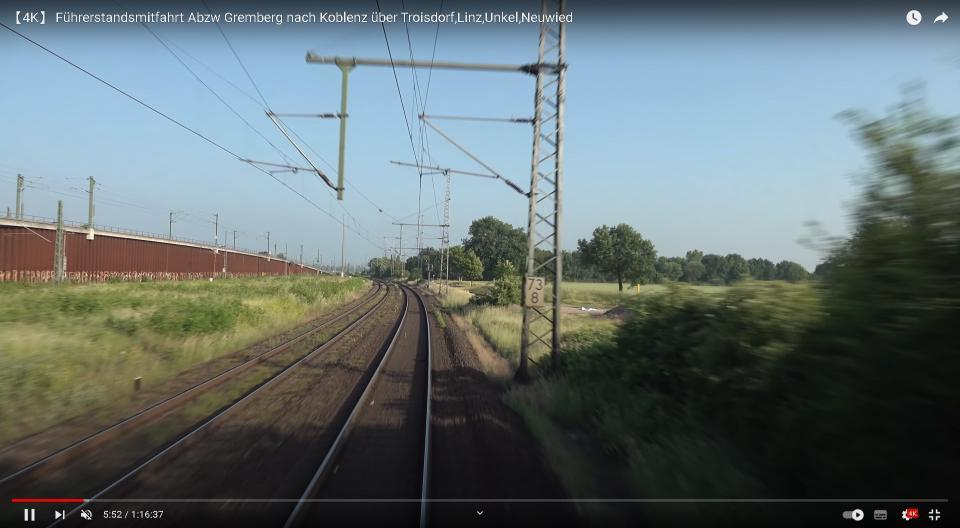Plant: (255, 284, 403, 419), (503, 383, 614, 498), (146, 366, 274, 443), (453, 313, 513, 382), (329, 290, 388, 336), (277, 327, 330, 363), (435, 308, 446, 329), (382, 285, 387, 289)
